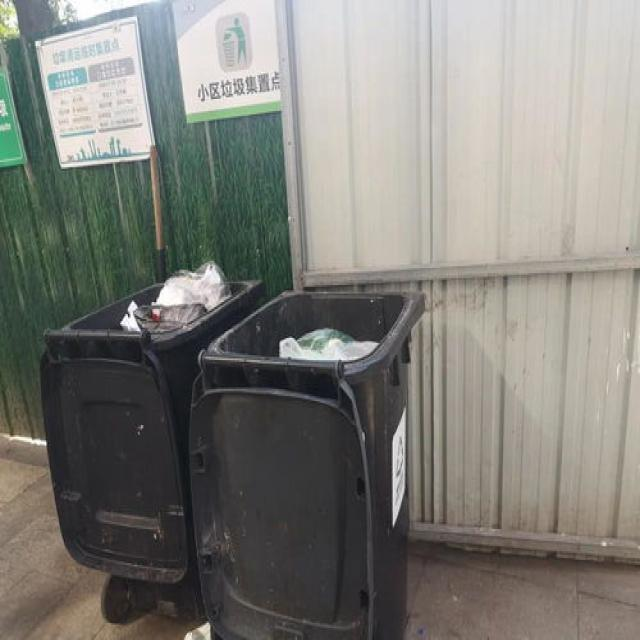overflow: (188, 292, 422, 638), (39, 258, 261, 618)
